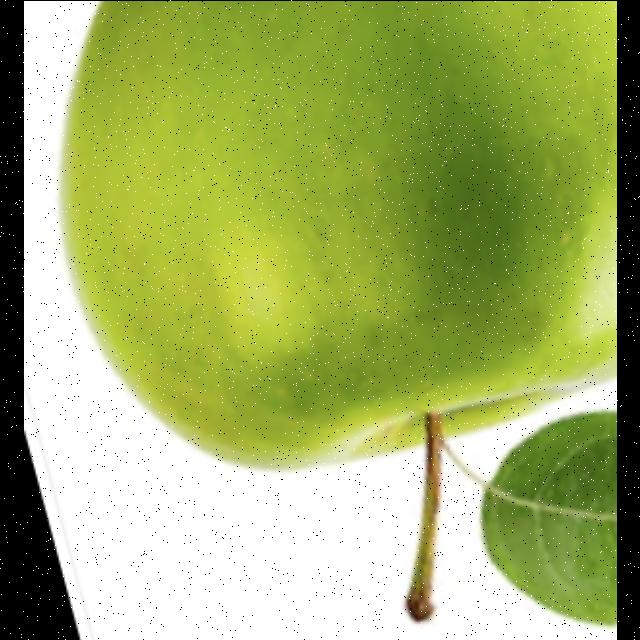Apel Segar: (24, 1, 616, 493)
